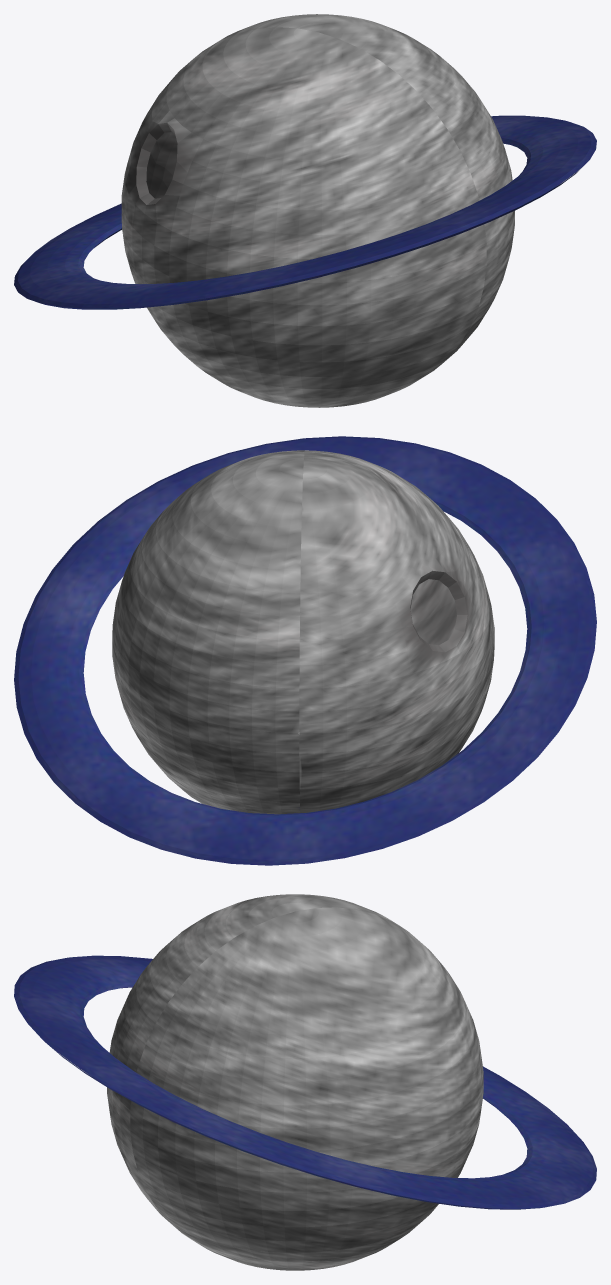
File: planet.obj
3 renders of one model, top to bottom at view 1: azimuth 30°, elevation 25°; view 2: azimuth 150°, elevation 25°; view 3: azimuth 270°, elevation 25°, orthographic. The views are drawn at different scales.
Visible parts, largest first — view 1: Torus.001; view 2: Torus.001; view 3: Torus.001.
Boxes of the visible parts, <box> form: Torus.001: <box>14,14,596,407</box>; Torus.001: <box>14,436,596,865</box>; Torus.001: <box>14,894,596,1270</box>.
Size of the model in its own units: 4.33 by 2.92 by 4.51.
1 material, 1 textured.
